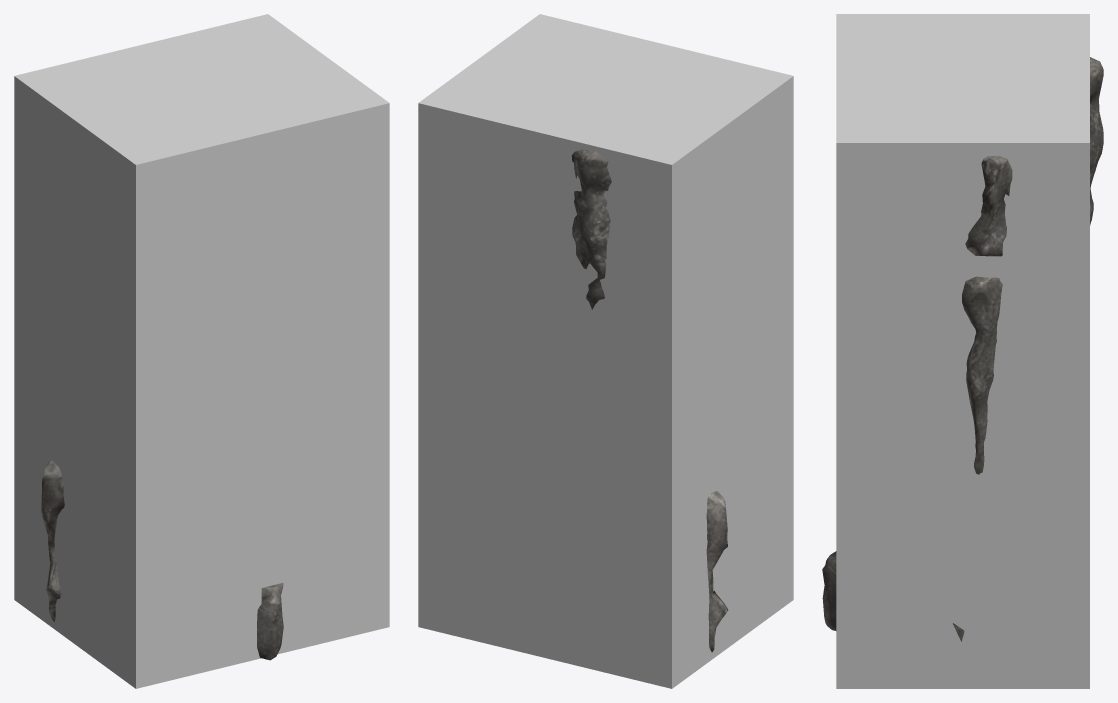
File: kneeling_winged_monster_sanctuary_statue_lite.glb
3 renders of one model, left to right at view 1: azimuth 30°, elevation 25°; view 2: azimuth 150°, elevation 25°; view 3: azimuth 270°, elevation 25°, orthographic. The views are drawn at different scales.
Parts seen in each view (by area): view 1: col_kneeling_winged_monster_sanctuary, kneeling_winged_monster_sanctuary_statue; view 2: col_kneeling_winged_monster_sanctuary, kneeling_winged_monster_sanctuary_statue; view 3: col_kneeling_winged_monster_sanctuary, kneeling_winged_monster_sanctuary_statue.
Boxes of the visible parts, box(x1,y1,x2,y2) form: col_kneeling_winged_monster_sanctuary: box(14, 14, 389, 688); kneeling_winged_monster_sanctuary_statue: box(41, 460, 283, 660); col_kneeling_winged_monster_sanctuary: box(418, 14, 793, 688); kneeling_winged_monster_sanctuary_statue: box(571, 149, 728, 652); col_kneeling_winged_monster_sanctuary: box(836, 14, 1089, 688); kneeling_winged_monster_sanctuary_statue: box(822, 57, 1103, 641).
Bounding box in the file's own units: 1.13 × 2 × 0.9347.
Materials: 1 (1 with a texture image).
